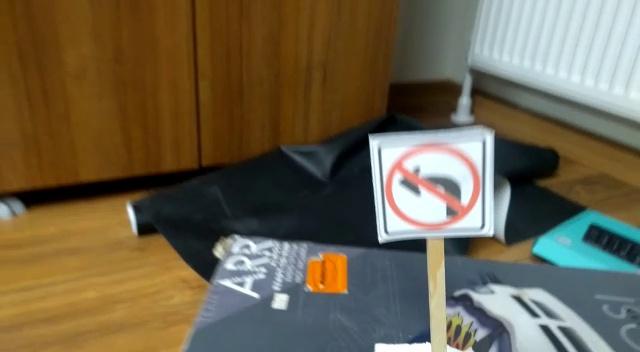sola_donulmez: (381, 128, 487, 236)
